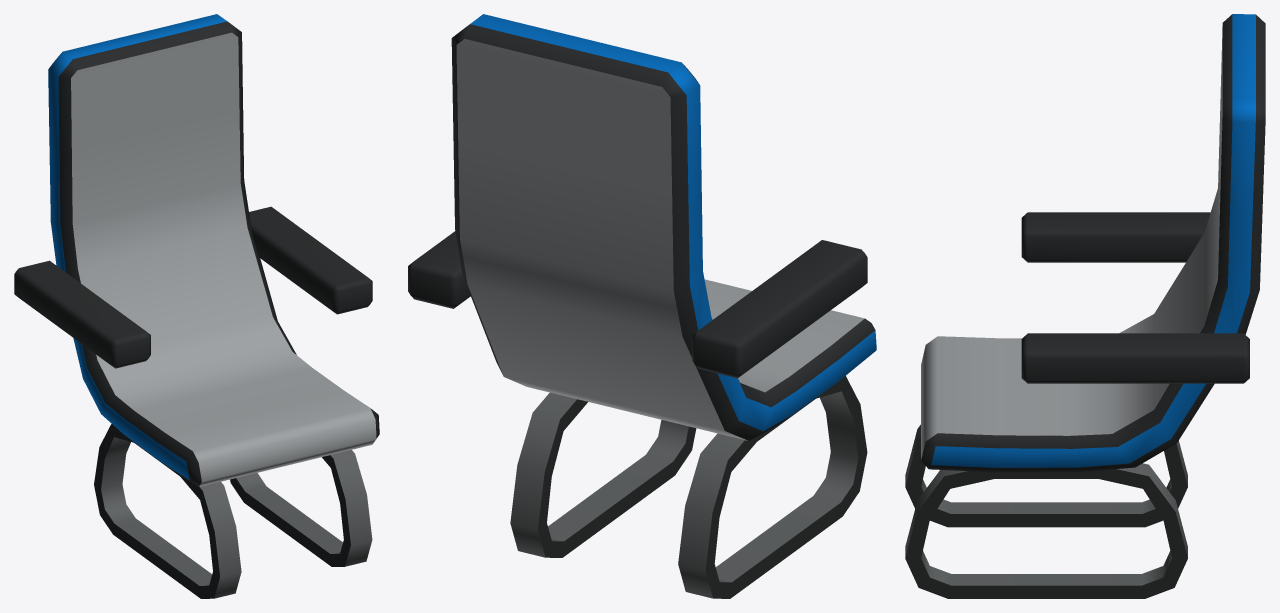
The model's file is Chair_001.fbx.
The picture shows the model from 3 angles, left to right: view 1: azimuth 30°, elevation 25°; view 2: azimuth 150°, elevation 25°; view 3: azimuth 270°, elevation 25°; orthographic projection. The views are drawn at different scales.
Parts seen in each view (by area): view 1: Chair_001; view 2: Chair_001; view 3: Chair_001.
Part boxes in pixels (<box>): Chair_001: <box>14,14,379,598</box>; Chair_001: <box>408,14,876,598</box>; Chair_001: <box>905,14,1265,598</box>.
Size of the model in its own units: 78.36 by 83.4 by 128.
